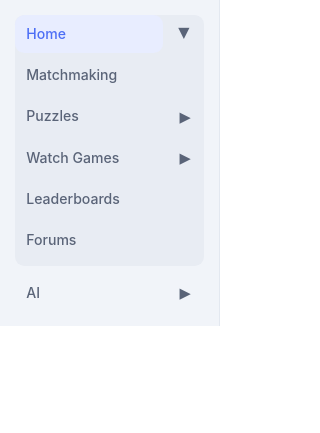
Scenario: SideBarNav: Puzzles dropdown (nested under Home) › toggles open and closed on click
Click the button with test id "puzzles-menu-toggle" at (185,116), box [166,98,204,135]
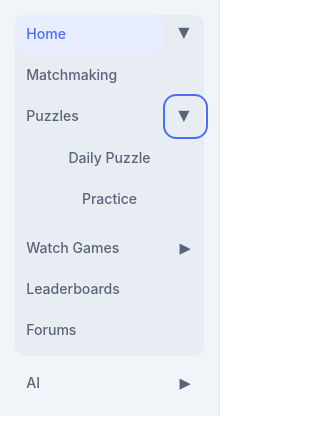
Result: the button with test id "puzzles-menu-toggle" is expanded
Result: the link "Daily Puzzle" is shown at [68,149,151,166]
Click the button with test id "puzzles-menu-toggle" at (185,116), box [166,98,204,135]
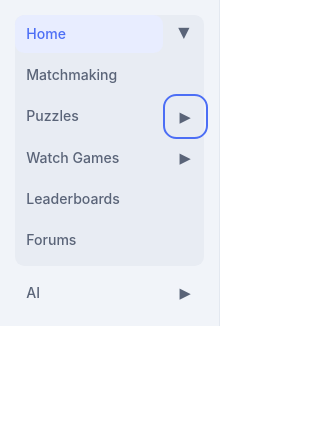
Result: the button with test id "puzzles-menu-toggle" is collapsed at [166,98,204,135]
Result: the link "Daily Puzzle" is gone
